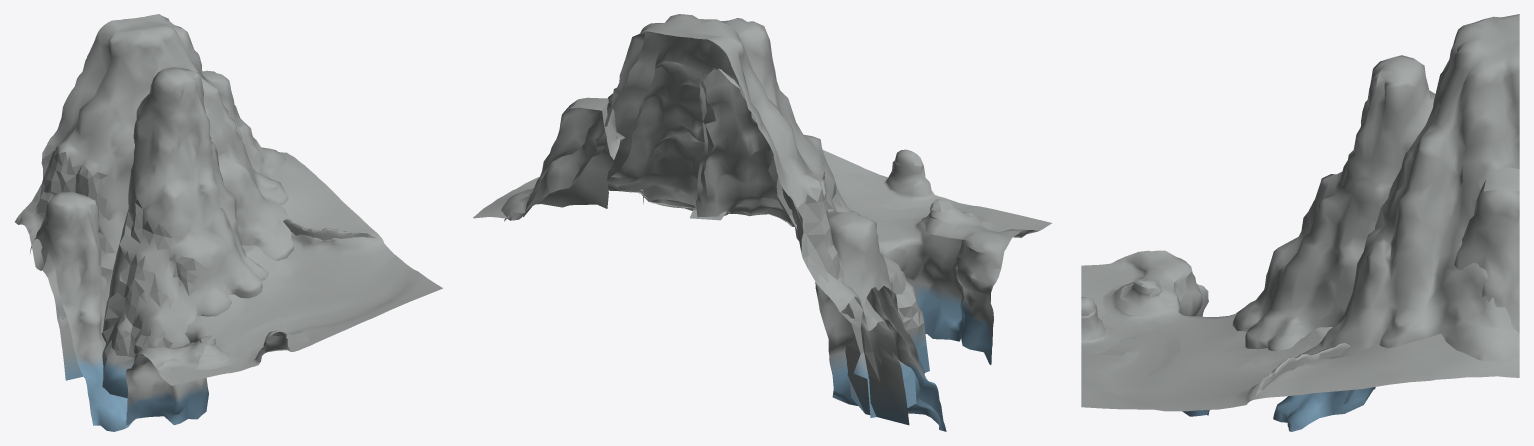
3 renders of one model, left to right at view 1: azimuth 30°, elevation 25°; view 2: azimuth 150°, elevation 25°; view 3: azimuth 270°, elevation 25°, orthographic. The views are drawn at different scales.
Parts seen in each view (by area): view 1: G:\FFXIV-MapTools\exports\w1f1\bg\ffxiv\wil_w1\fld\w1f1\bgpl (×15); view 2: G:\FFXIV-MapTools\exports\w1f1\bg\ffxiv\wil_w1\fld\w1f1\bgpl (×10); view 3: G:\FFXIV-MapTools\exports\w1f1\bg\ffxiv\wil_w1\fld\w1f1\bgpl (×15).
Part boxes in pixels (x1,y1,x2,y2): G:\FFXIV-MapTools\exports\w1f1\bg\ffxiv\wil_w1\fld\w1f1\bgpl (×15): (15, 14, 442, 431); G:\FFXIV-MapTools\exports\w1f1\bg\ffxiv\wil_w1\fld\w1f1\bgpl (×10): (473, 14, 1051, 431); G:\FFXIV-MapTools\exports\w1f1\bg\ffxiv\wil_w1\fld\w1f1\bgpl (×15): (1081, 14, 1519, 431).
Size of the model in its own units: 128 by 147 by 128.
